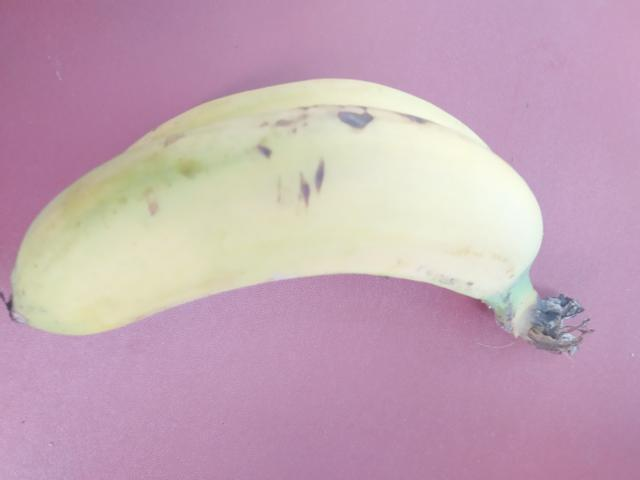ripe: (15, 97, 534, 364)
